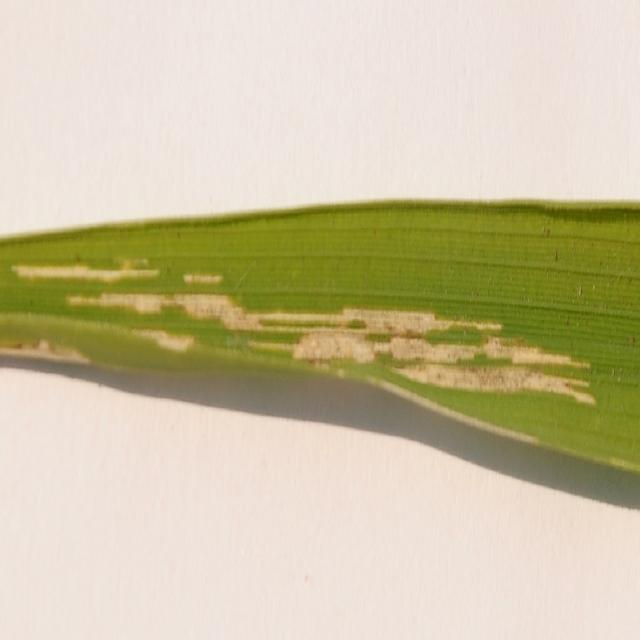Unhealthy: (67, 290, 595, 405), (367, 372, 540, 445), (0, 313, 194, 357), (11, 257, 161, 282), (0, 335, 92, 362), (601, 457, 640, 471), (183, 273, 223, 285)
